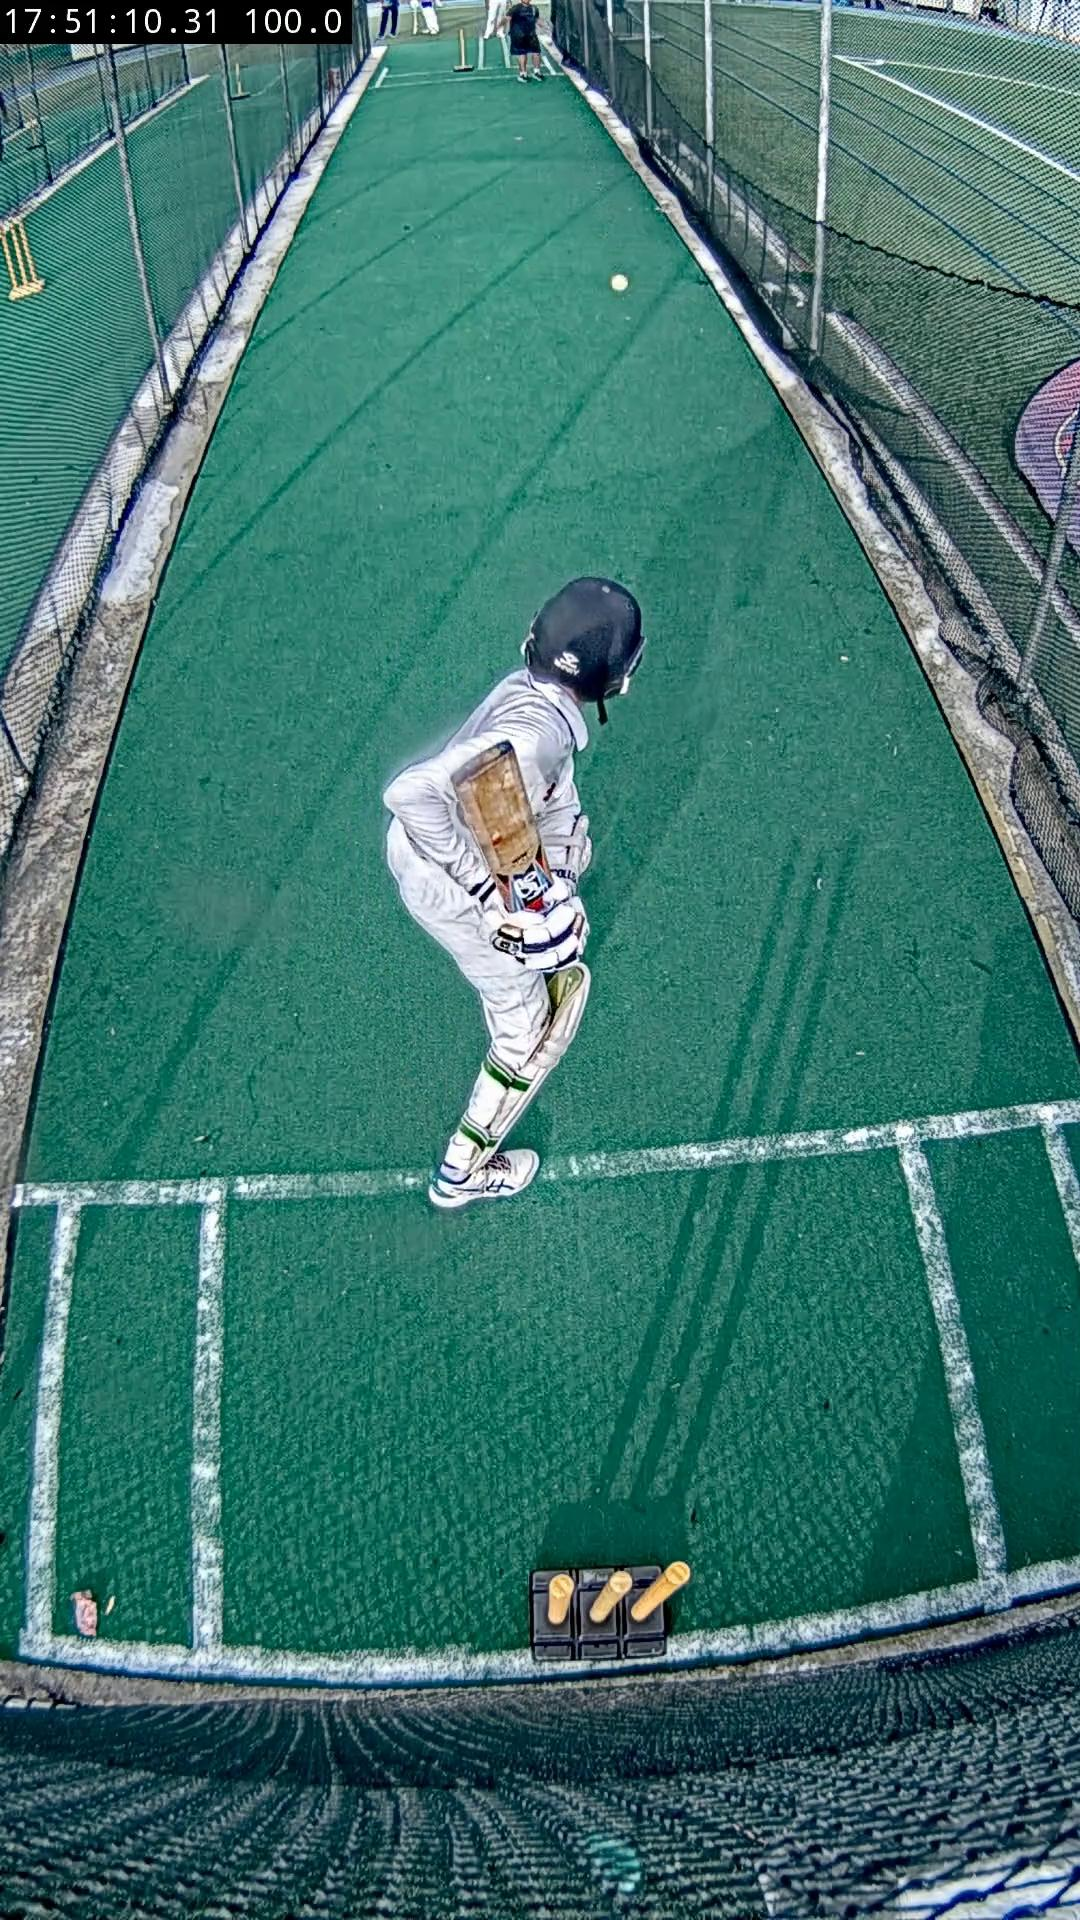ball: (612, 274, 630, 293)
bat: (454, 742, 551, 911)
gloves: (484, 877, 588, 972)
helmet: (521, 578, 645, 702)
pads: (488, 960, 592, 1143)
stumps: (533, 1564, 690, 1662)
